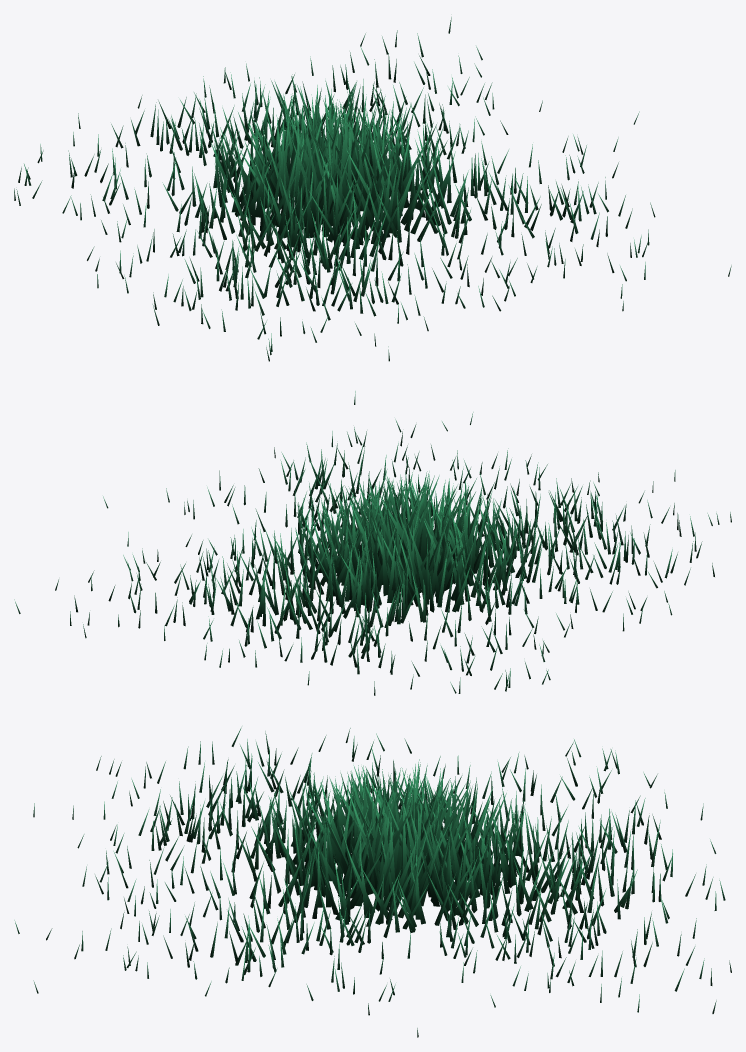
File: grass-cluster.fbx
The picture shows the model from 3 angles, top to bottom: view 1: azimuth 30°, elevation 25°; view 2: azimuth 150°, elevation 25°; view 3: azimuth 270°, elevation 25°; orthographic projection. The views are drawn at different scales.
Parts seen in each view (by area): view 1: grass-cluster; view 2: grass-cluster; view 3: grass-cluster.
Boxes of the visible parts, x1,y1,x2,y2 form: grass-cluster: [14, 17, 731, 361]; grass-cluster: [14, 391, 731, 695]; grass-cluster: [14, 727, 731, 1037].
Bounding box in the file's own units: 166 × 28.59 × 169.
Materials: 1 (1 with a texture image).
